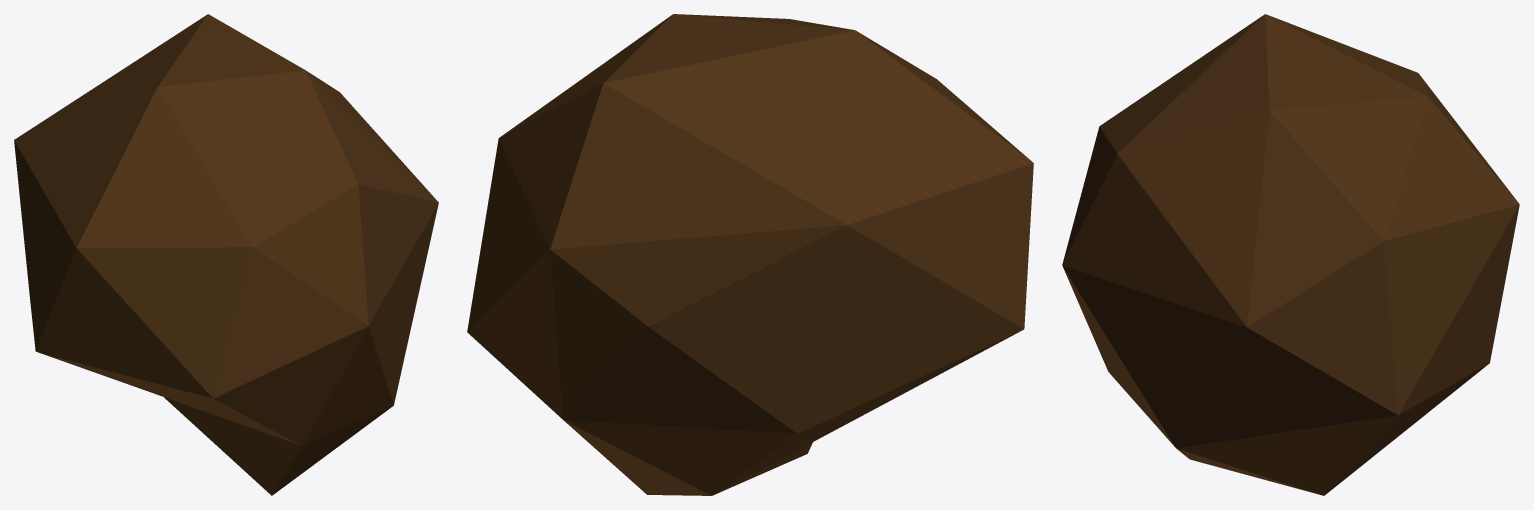
File: asteroid9.fbx
3 views of the same model, side by side, from view 1: azimuth 30°, elevation 25°; view 2: azimuth 150°, elevation 25°; view 3: azimuth 270°, elevation 25° (orthographic). The views are drawn at different scales.
Visible parts, largest first — view 1: quickmaterial1; view 2: quickmaterial1; view 3: quickmaterial1.
Part boxes in pixels (left/top/right/bottom): quickmaterial1: left=14, top=14, right=438, bottom=495; quickmaterial1: left=467, top=14, right=1033, bottom=495; quickmaterial1: left=1062, top=14, right=1519, bottom=495.
Bounding box in the file's own units: 1.88 × 1.79 × 1.81.
